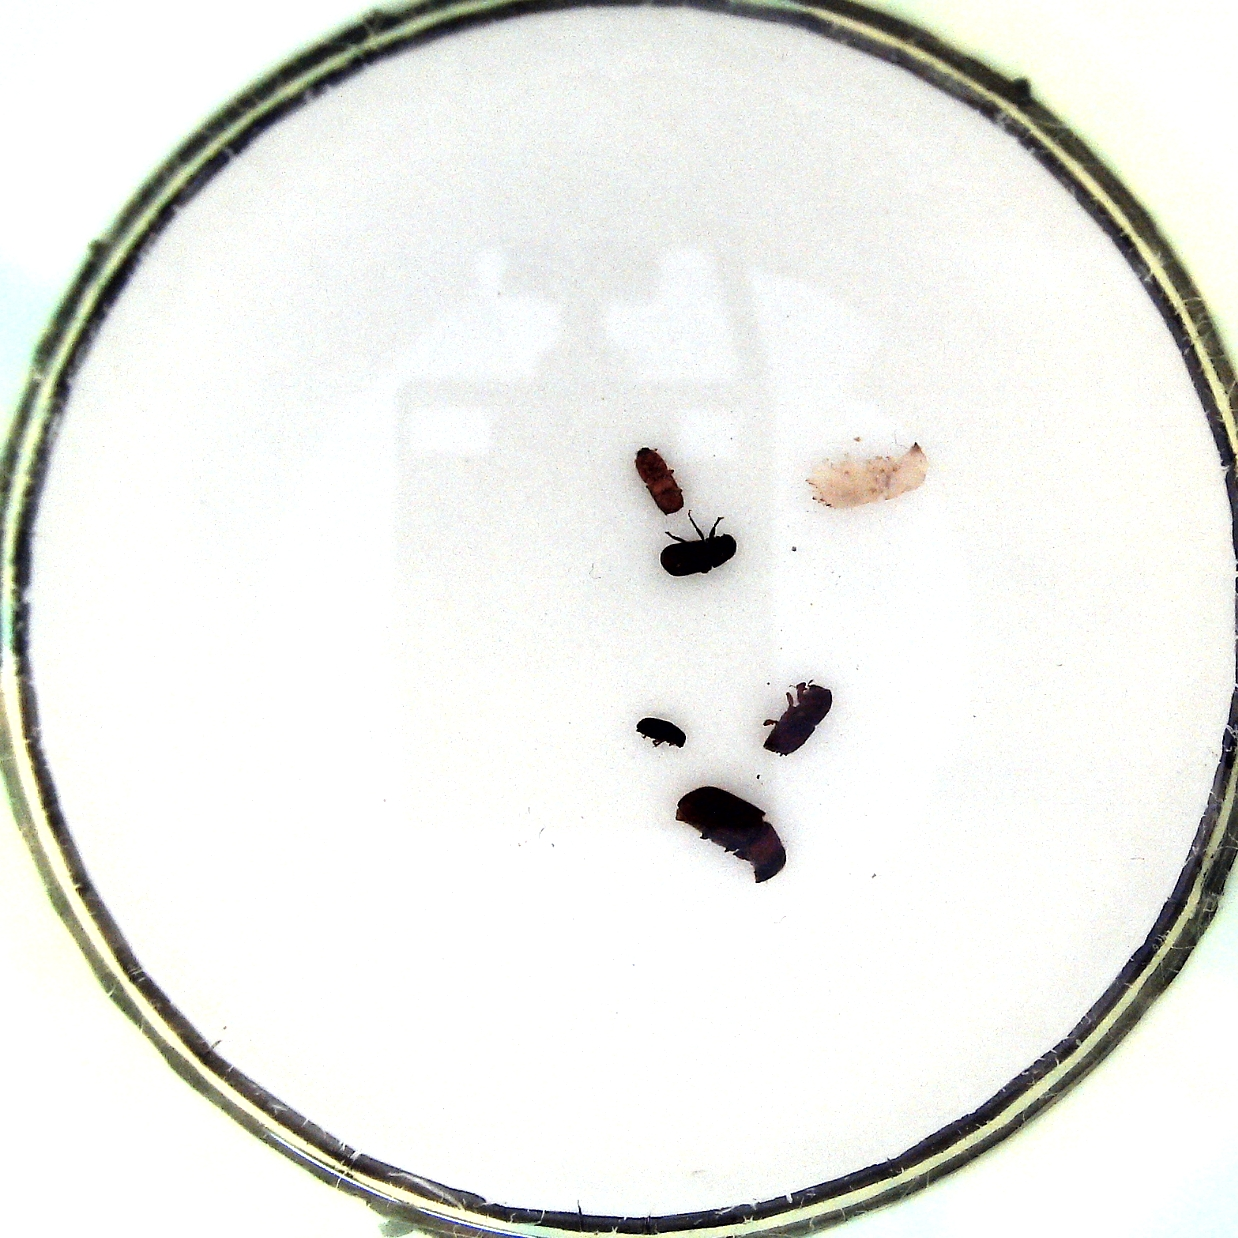Boerner: (802, 438, 928, 522)
Leconte: (671, 786, 792, 896)
Linnaeus: (760, 675, 833, 760)
acuminatus: (631, 442, 682, 519)
armandi: (653, 507, 741, 579)
coleoptera: (633, 714, 692, 753)
